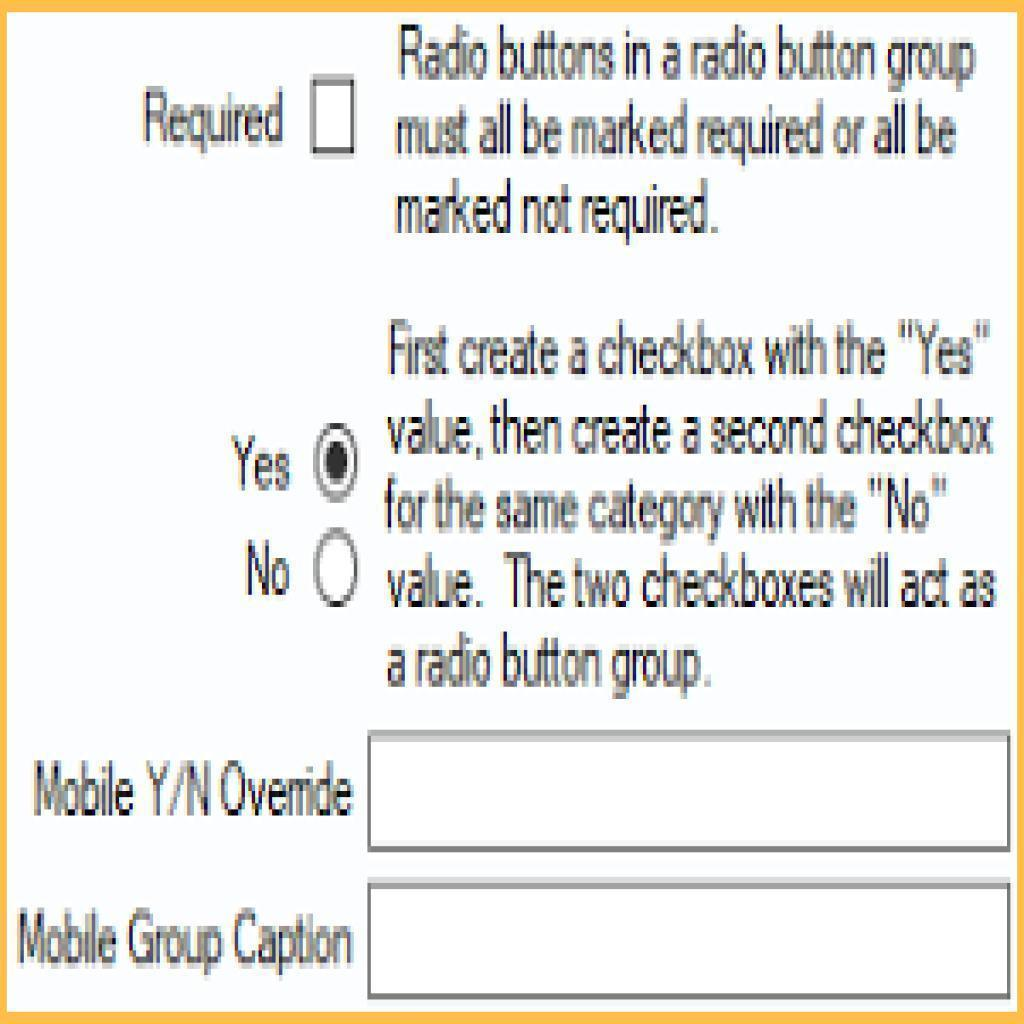checkbox: (309, 78, 356, 150)
input: (369, 733, 1008, 852), (373, 882, 1008, 990)
label: (378, 310, 1010, 698), (392, 15, 986, 241), (13, 894, 355, 979), (23, 754, 355, 827), (135, 84, 285, 152), (225, 429, 293, 496), (240, 528, 296, 602)
radio: (307, 528, 365, 616), (309, 415, 358, 512)
